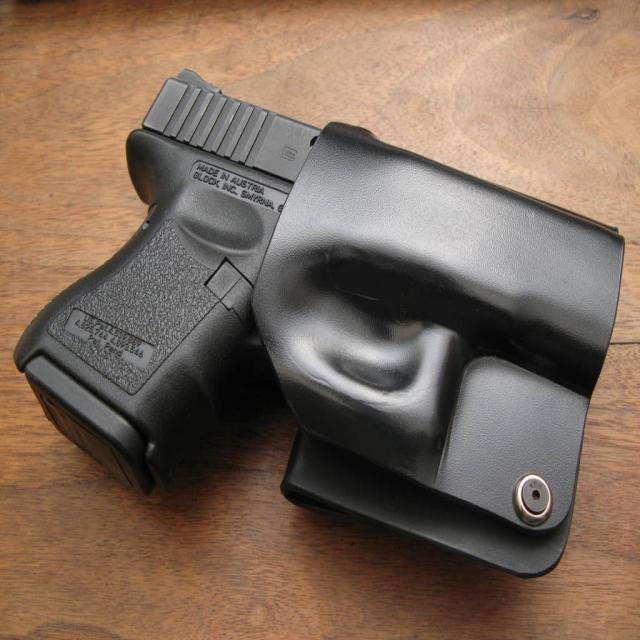Gun: (16, 71, 624, 575)
